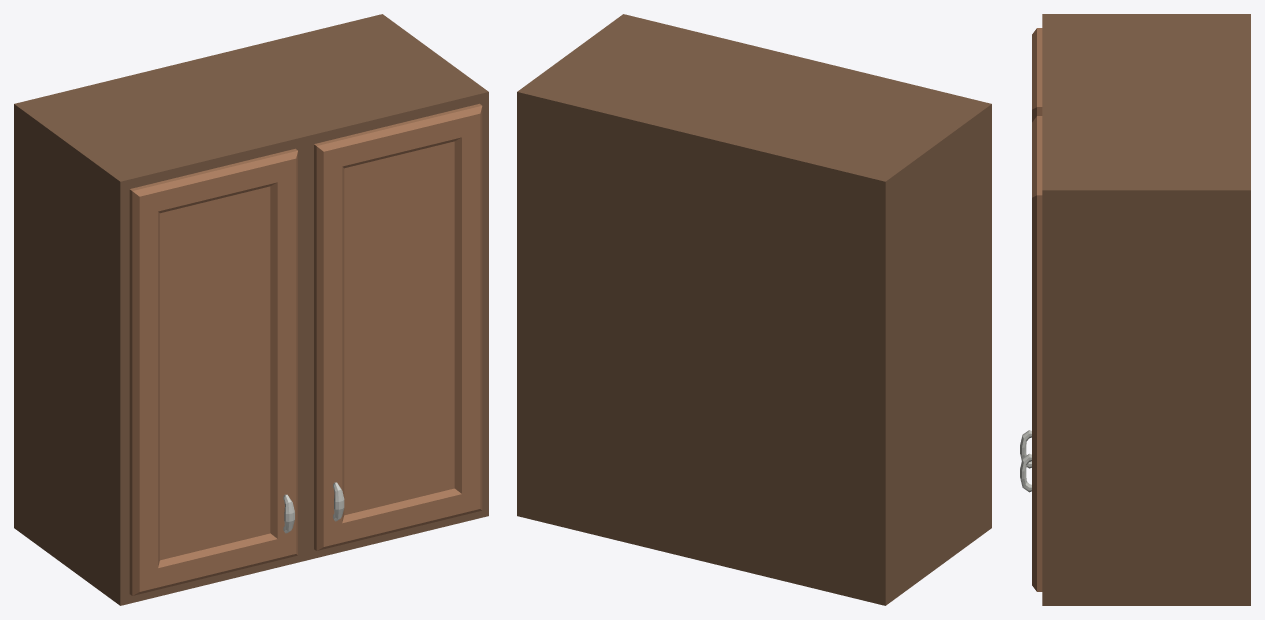
File: Structure_Kitchen_Cabinet_Wall_Full.obj
The picture shows the model from 3 angles, left to right: view 1: azimuth 30°, elevation 25°; view 2: azimuth 150°, elevation 25°; view 3: azimuth 270°, elevation 25°; orthographic projection. The views are drawn at different scales.
Parts seen in each view (by area): view 1: object2, object1, object3; view 2: object2; view 3: object2, object1, object3.
Part boxes in pixels (x1,y1,x2,y2): object2: (14, 14, 488, 605); object1: (314, 103, 482, 550); object3: (129, 148, 297, 595); object2: (517, 14, 991, 605); object2: (1042, 14, 1250, 605); object1: (1032, 116, 1042, 591); object3: (1032, 28, 1042, 122).
Size of the model in its own units: 1 by 1.1 by 0.5531.
